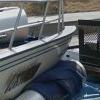Boat: (2, 2, 81, 92)
